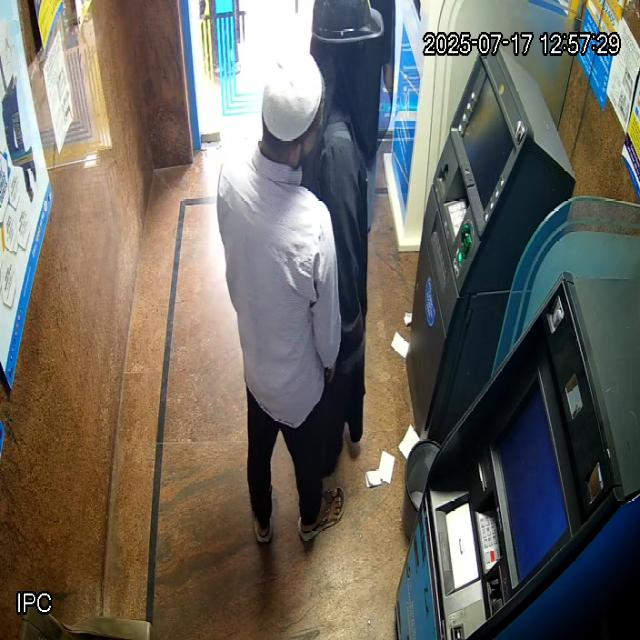helmet: (311, 0, 384, 43)
no_helmet: (260, 52, 326, 169)
